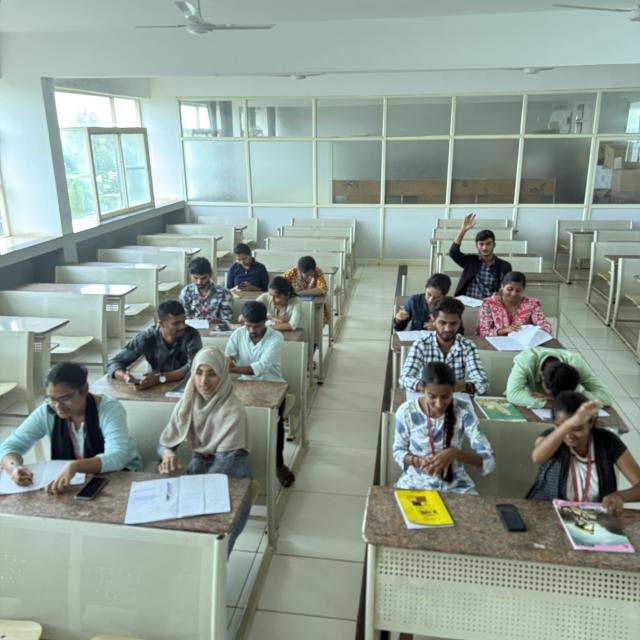Hand Rising: (442, 199, 508, 303)
Reading: (476, 256, 558, 353)
Sleeping: (503, 332, 640, 419)
Using Phone: (119, 299, 193, 395)
Writing: (5, 323, 114, 484), (372, 255, 451, 344)
